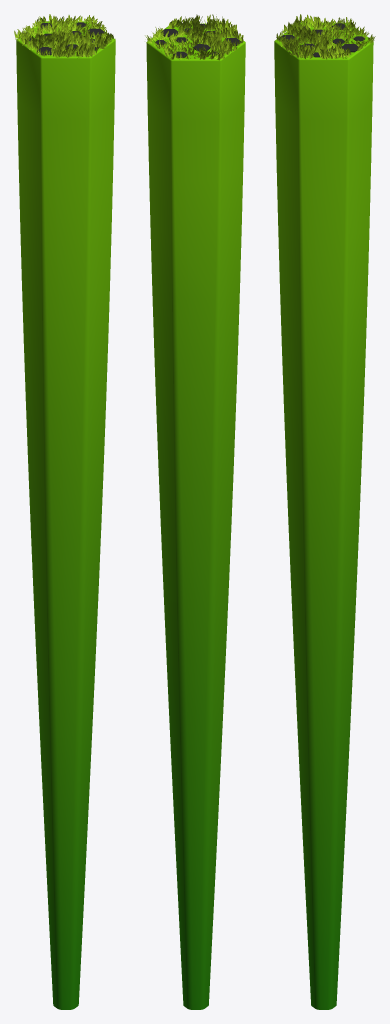
File: hex.glb
3 views of the same model, side by side, from view 1: azimuth 30°, elevation 25°; view 2: azimuth 150°, elevation 25°; view 3: azimuth 330°, elevation 25° (orthographic).
Visible parts, largest first — view 1: Hex, Gras, Stones; view 2: Hex, Gras, Stones; view 3: Hex, Gras, Stones.
Part boxes in pixels (left/top/right/bottom): Hex: left=16, top=21, right=115, bottom=1009; Gras: left=14, top=14, right=115, bottom=58; Stones: left=29, top=22, right=105, bottom=55; Hex: left=146, top=23, right=245, bottom=1009; Gras: left=145, top=14, right=243, bottom=60; Stones: left=155, top=24, right=241, bottom=57; Hex: left=274, top=22, right=373, bottom=1009; Gras: left=276, top=14, right=375, bottom=59; Stones: left=279, top=23, right=365, bottom=57.
Bounding box in the file's own units: 1.88 × 21.48 × 2.01.
